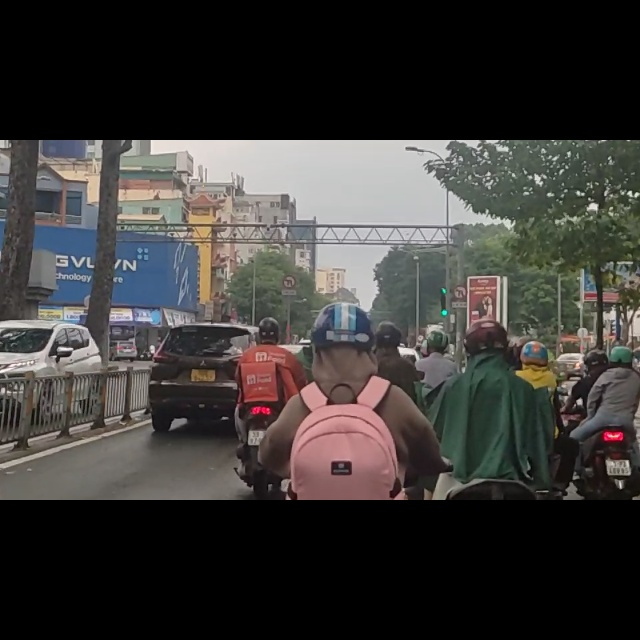bien_cam: (452, 256, 467, 283), (281, 242, 297, 265)
